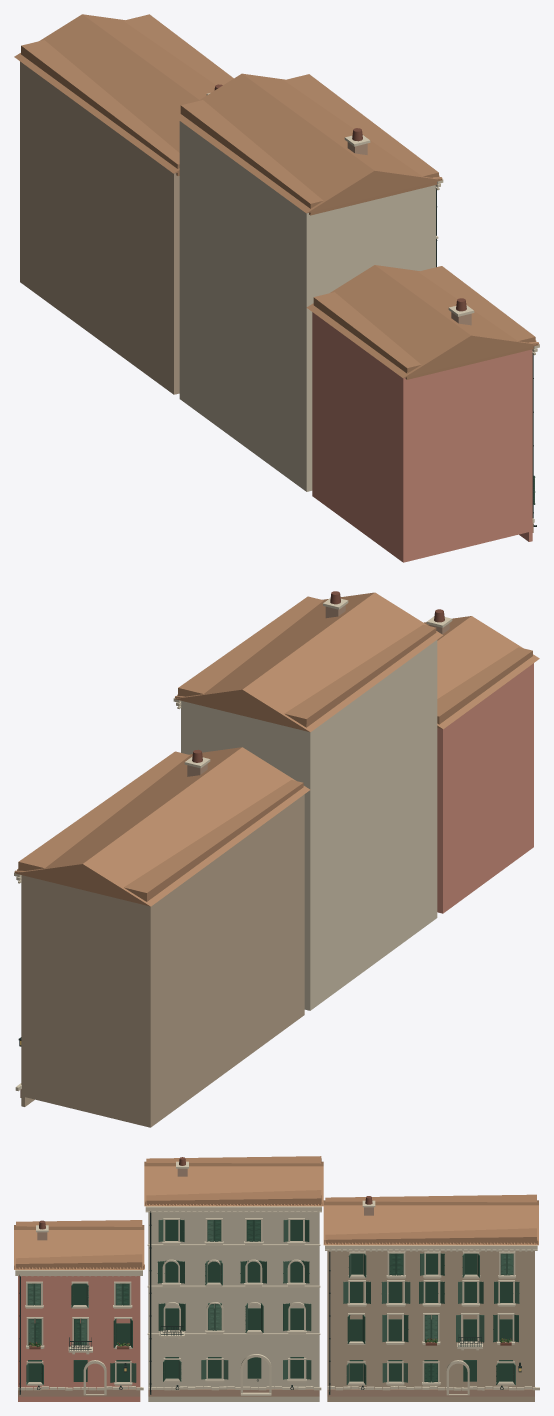
Rendered from canal-11.glb.
3 views of the same model, one above another, from view 1: azimuth 30°, elevation 25°; view 2: azimuth 150°, elevation 25°; view 3: azimuth 270°, elevation 25° (orthographic). The views are drawn at different scales.
Parts seen in each view (by area): view 1: Main elevations / kit:walls:3, Main elevations / kit:walls:1, Main elevations / kit:roof, Main elevations / kit:walls:5, Distant elevations / kit:roof; view 2: Main elevations / kit:walls:5, Main elevations / kit:walls:3, Main elevations / kit:roof, Main elevations / kit:walls:1, Distant elevations / kit:roof, Distant elevations / kit:walls:5, Main elevations / kit:stone; view 3: Distant elevations / kit:walls:3, Distant elevations / kit:walls:5, Main elevations / kit:roof, Main elevations / kit:stone, Distant elevations / kit:greenDark, Distant elevations / kit:roof, Distant elevations / kit:walls:1, Main elevations / kit:green, Main elevations / kit:greenDark, Main elevations / kit:brick, Near ironwork and plants / kit:iron, Near ironwork and plants / kit:green (+4 smaller).
Part boxes in pixels (x1,y1,x2,y2): Main elevations / kit:walls:3: [179, 121, 435, 491]; Main elevations / kit:walls:1: [312, 312, 532, 562]; Main elevations / kit:roof: [14, 14, 538, 378]; Main elevations / kit:walls:5: [20, 61, 179, 394]; Distant elevations / kit:roof: [21, 14, 535, 379]; Main elevations / kit:walls:5: [21, 794, 304, 1127]; Main elevations / kit:walls:3: [181, 640, 437, 1010]; Main elevations / kit:roof: [14, 592, 539, 906]; Main elevations / kit:walls:1: [437, 663, 533, 913]; Distant elevations / kit:roof: [18, 596, 532, 901]; Distant elevations / kit:walls:5: [21, 875, 146, 1125]; Main elevations / kit:stone: [14, 598, 452, 1091]; Distant elevations / kit:walls:3: [148, 1212, 319, 1389]; Distant elevations / kit:walls:5: [327, 1251, 534, 1389]; Main elevations / kit:roof: [14, 1161, 538, 1269]; Main elevations / kit:stone: [15, 1161, 539, 1395]; Distant elevations / kit:greenDark: [28, 1220, 512, 1381]; Distant elevations / kit:roof: [16, 1156, 536, 1268]; Distant elevations / kit:walls:1: [18, 1276, 140, 1389]; Main elevations / kit:green: [26, 1219, 519, 1384]; Main elevations / kit:greenDark: [35, 1219, 518, 1384]; Main elevations / kit:brick: [18, 1168, 534, 1396]; Near ironwork and plants / kit:iron: [19, 1211, 521, 1394]; Near ironwork and plants / kit:green: [28, 1220, 512, 1344].
Bounding box in the file's own units: 9.05 × 19.93 × 42.04.
